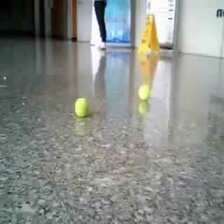tennis: (75, 97, 91, 117), (138, 83, 151, 101)
